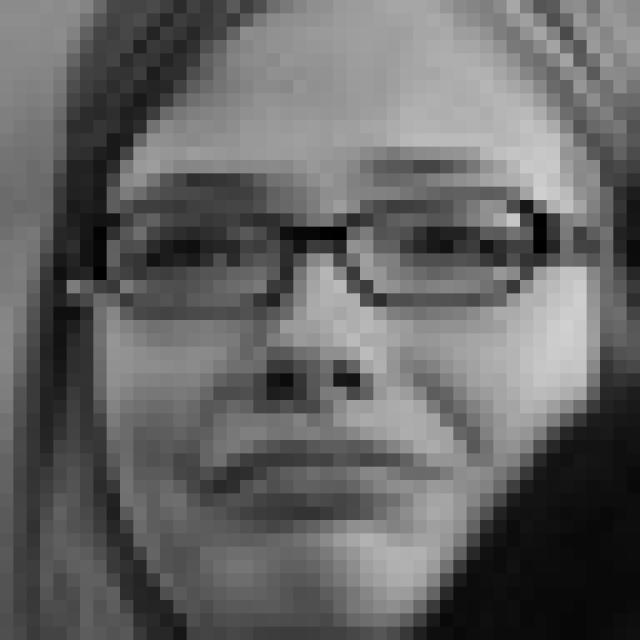sad: (108, 149, 544, 541)
